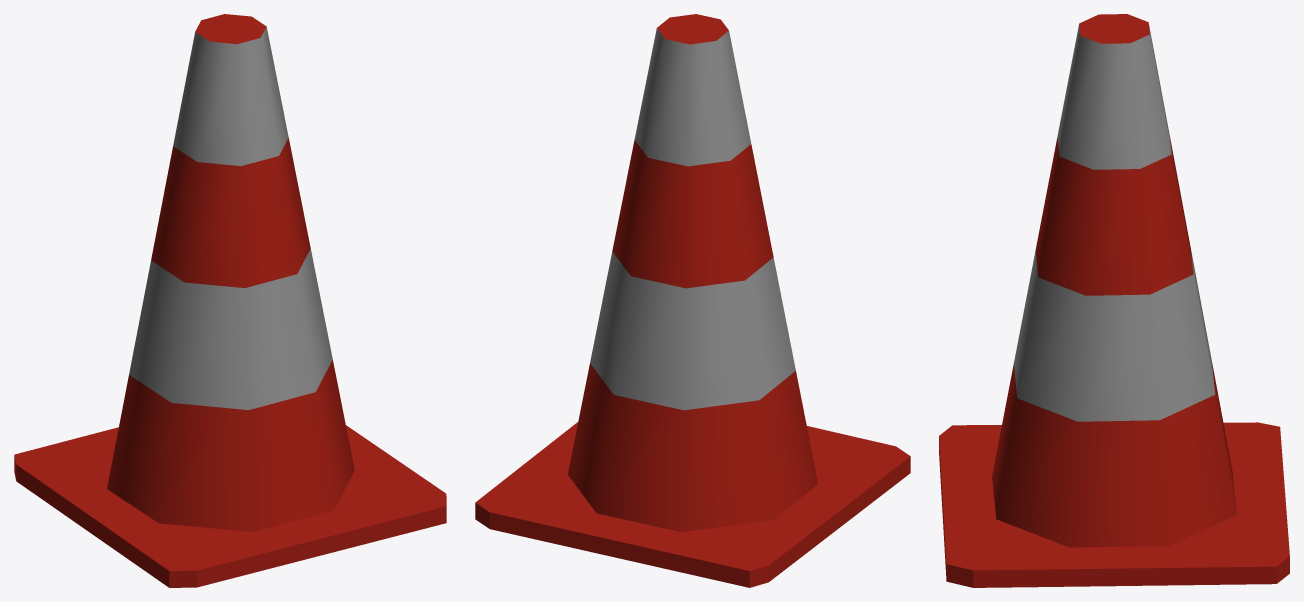
The picture shows the model from 3 angles, left to right: view 1: azimuth 30°, elevation 25°; view 2: azimuth 150°, elevation 25°; view 3: azimuth 270°, elevation 25°; orthographic projection. The views are drawn at different scales.
Visible parts, largest first — view 1: Cylinder001; view 2: Cylinder001; view 3: Cylinder001.
Boxes of the visible parts, box(x1,y1,x2,y2) form: Cylinder001: box(14, 14, 446, 587); Cylinder001: box(475, 14, 910, 587); Cylinder001: box(939, 14, 1289, 587).
Bounding box in the file's own units: 20.54 × 31.36 × 20.58.
